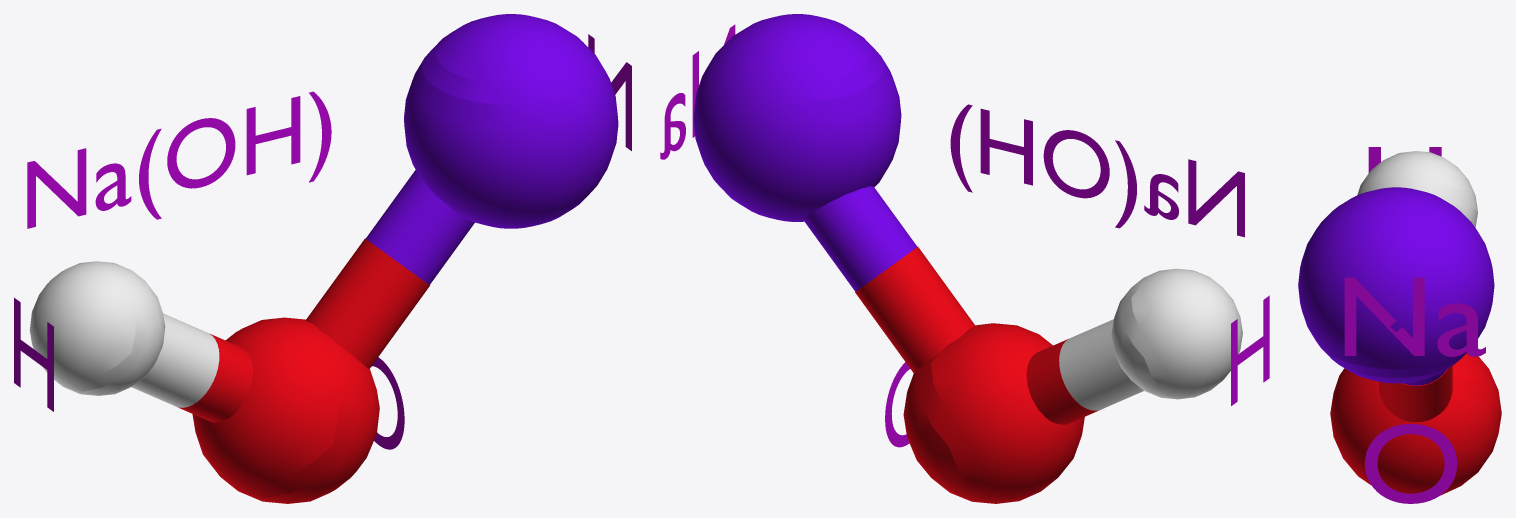
Rendered from naoh.glb.
3 views of the same model, side by side, from view 1: azimuth 30°, elevation 25°; view 2: azimuth 150°, elevation 25°; view 3: azimuth 270°, elevation 25° (orthographic). The views are drawn at different scales.
Visible parts, largest first — view 1: Shape_IndexedFaceSet.002, Shape_IndexedFaceSet.003, Shape_IndexedFaceSet.005, Text, Text.003, Text.002, Text.001; view 2: Shape_IndexedFaceSet.002, Shape_IndexedFaceSet.003, Shape_IndexedFaceSet.005, Text, Text.003, Text.001, Text.002; view 3: Shape_IndexedFaceSet.002, Shape_IndexedFaceSet.003, Text.001, Shape_IndexedFaceSet.005, Text.002, Text.003.
Boxes of the visible parts, bbox=[...] form: Shape_IndexedFaceSet.002: bbox=[366, 14, 618, 284]; Shape_IndexedFaceSet.003: bbox=[177, 238, 429, 503]; Shape_IndexedFaceSet.005: bbox=[29, 261, 219, 407]; Text: bbox=[27, 91, 331, 228]; Text.003: bbox=[14, 297, 53, 411]; Text.002: bbox=[372, 357, 404, 449]; Text.001: bbox=[588, 34, 631, 150]; Shape_IndexedFaceSet.002: bbox=[693, 14, 917, 291]; Shape_IndexedFaceSet.003: bbox=[855, 247, 1099, 503]; Shape_IndexedFaceSet.005: bbox=[1059, 268, 1242, 410]; Text: bbox=[950, 104, 1244, 237]; Text.003: bbox=[1231, 295, 1269, 405]; Text.001: bbox=[660, 24, 735, 159]; Text.002: bbox=[885, 362, 910, 447]; Shape_IndexedFaceSet.002: bbox=[1298, 187, 1494, 385]; Shape_IndexedFaceSet.003: bbox=[1330, 353, 1501, 495]; Text.001: bbox=[1344, 277, 1485, 356]; Shape_IndexedFaceSet.005: bbox=[1357, 151, 1477, 227]; Text.002: bbox=[1364, 424, 1457, 503]; Text.003: bbox=[1368, 147, 1441, 172].
Size of the model in its own units: 24.35 by 17.57 by 8.31.
